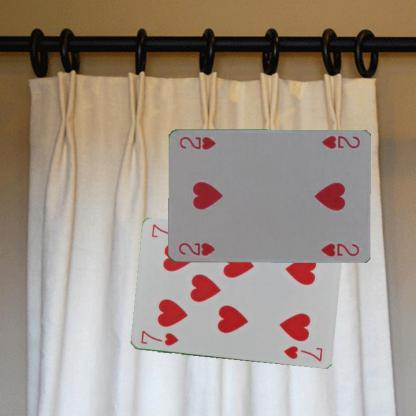2h: (176, 240, 216, 258), (318, 134, 361, 150)
7h: (138, 328, 180, 347)
